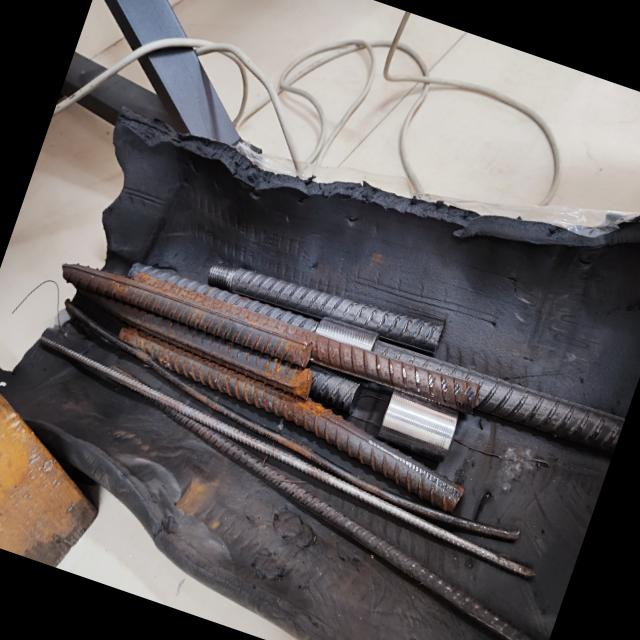Sleeve joint: (368, 384, 466, 464), (308, 312, 381, 361)
Welded link: (105, 303, 323, 429), (120, 266, 322, 372)
ribbed bar: (58, 361, 584, 640), (19, 332, 561, 582), (120, 252, 624, 462), (41, 285, 484, 514), (51, 240, 485, 433), (208, 240, 449, 360)
